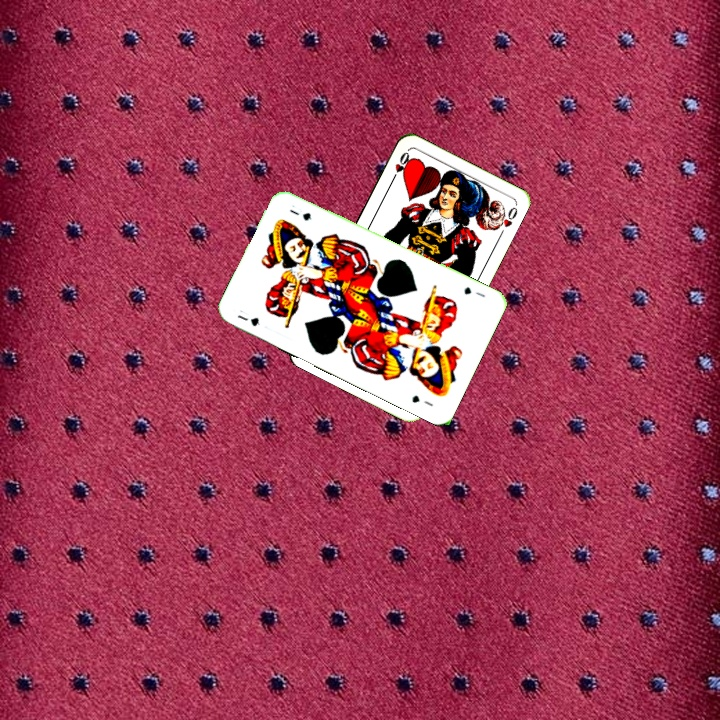GU: (233, 306, 263, 329), (460, 282, 488, 300)
HO: (387, 148, 413, 185)
